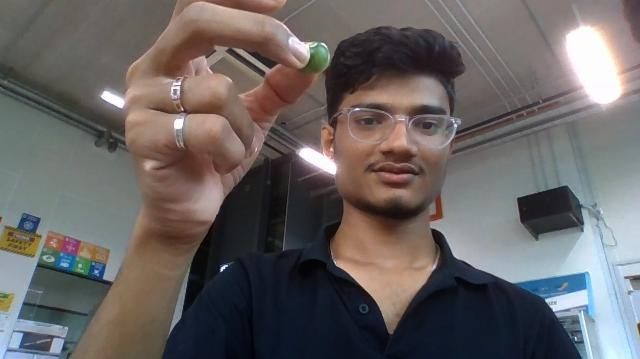Fruit Maturation: (295, 41, 330, 75)
